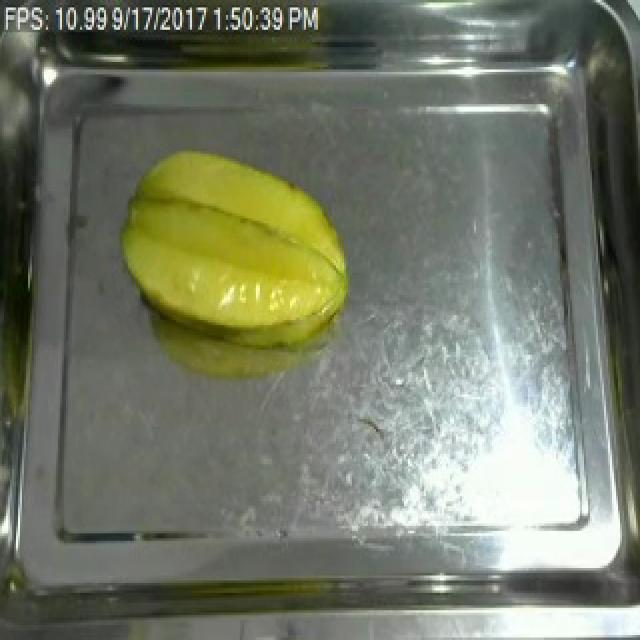fruit: (108, 136, 362, 342)
